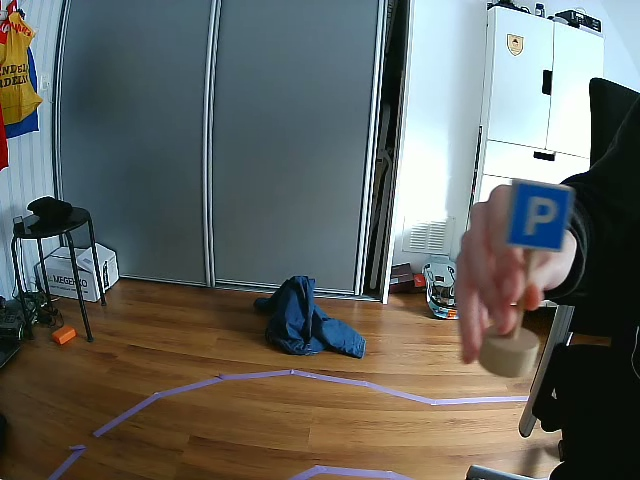parkeerbord: (508, 180, 575, 246)
